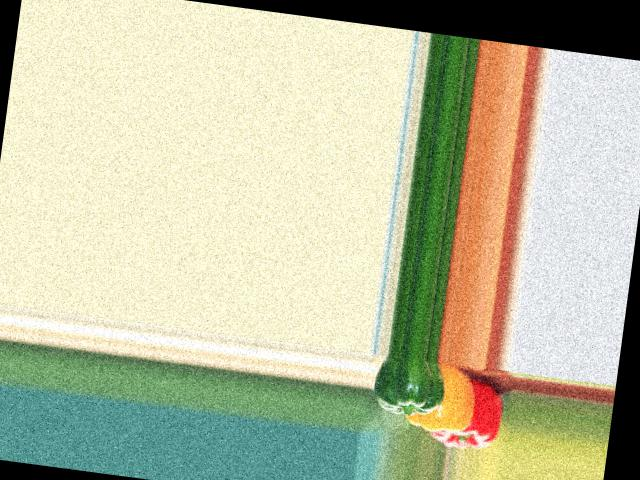bell_pepper: (429, 365, 506, 452)
